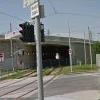Traffic light: (16, 20, 49, 46)
